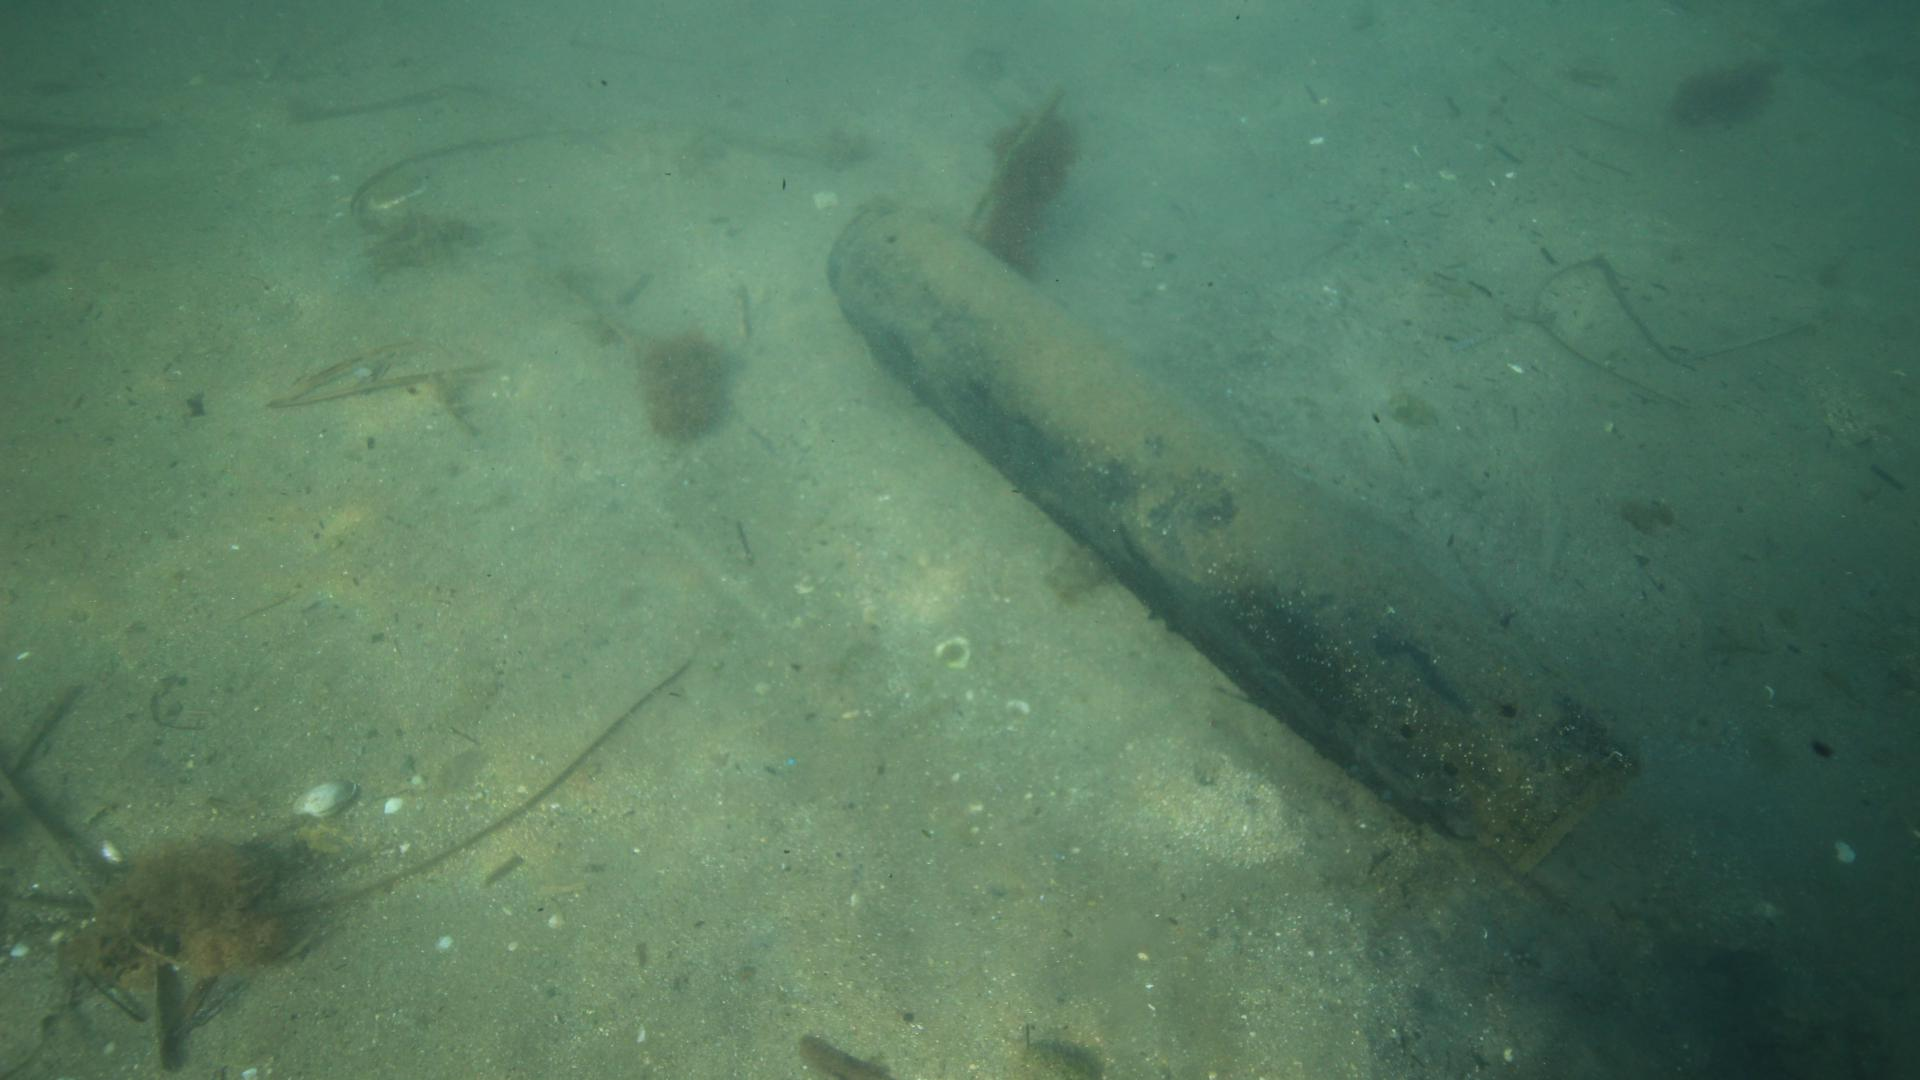eel fish trap: (822, 193, 1636, 873)
